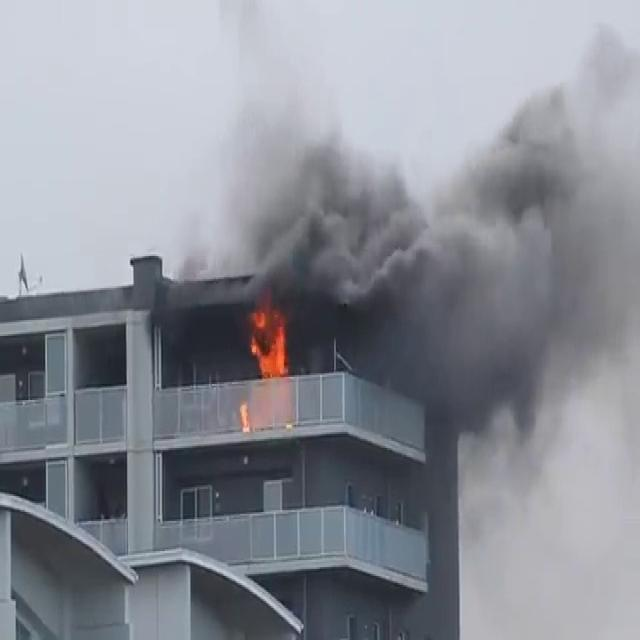Fire: (242, 296, 294, 381)
Smoke: (219, 58, 640, 438)
